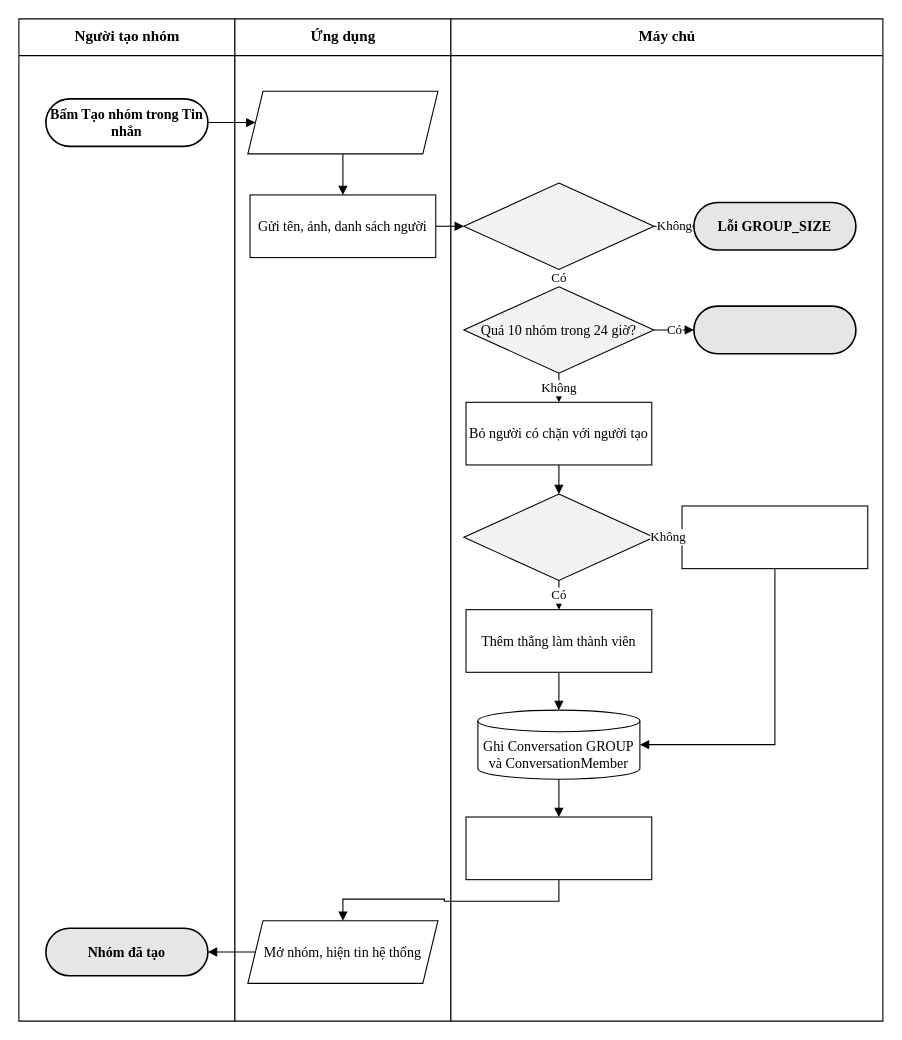
This 902x1040 diagram has some shape labels left out. Each missing label, with the centre of its shape:
"Chọn 2–49 người, đặt tên" belongs at point (342, 122).
"Lỗi GROUP_DAILY_LIMIT" belongs at point (774, 329).
"Người đó theo dõi người tạo?" belongs at point (558, 536).
"Socket conversation:new, push lời mời" belongs at point (558, 848).
"Tạo lời mời trong Tin nhắn chờ" belongs at point (774, 537).
"Từ 2 đến 49 người?" belongs at point (558, 225).
